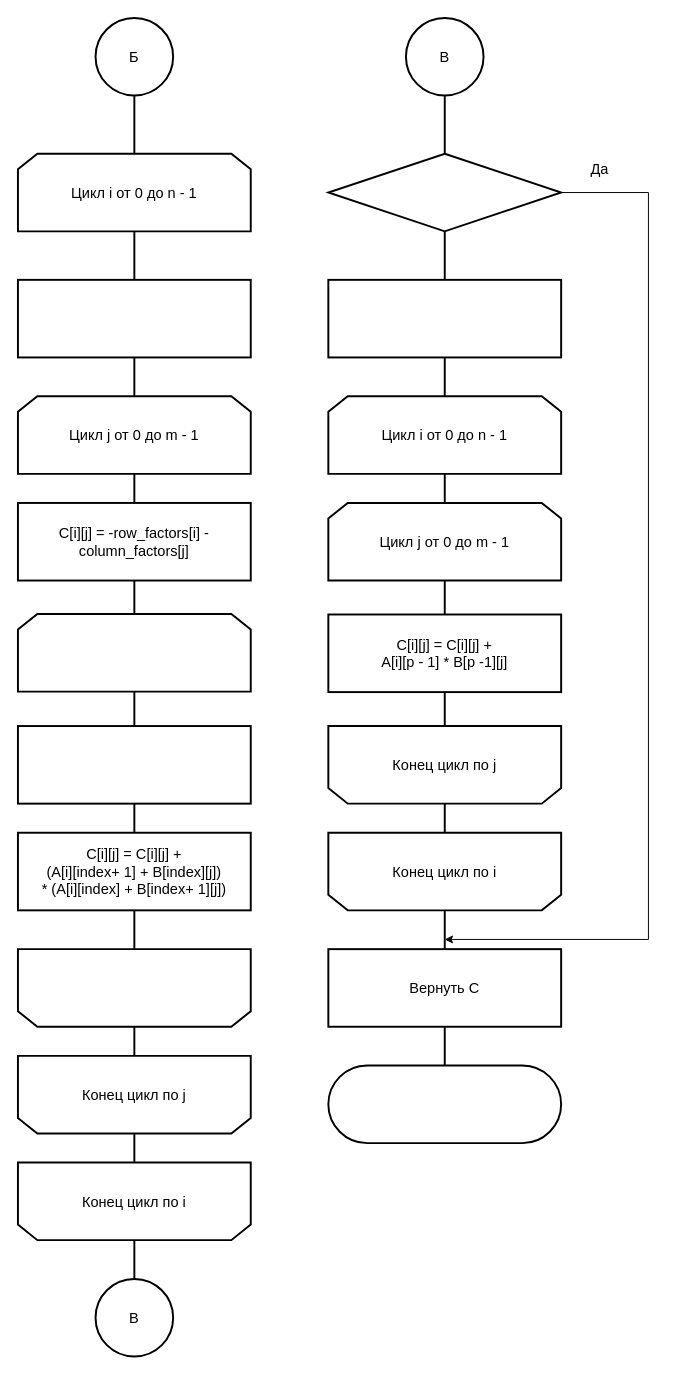
Image size: 673x1374. Some labels were removed from this diagram. The centre of each missing label's shape, as x and y in pixels:
"index = k << 1" goes at [133,764].
"p % 2 == 0" goes at [444,192].
"row_factors_temp = - row_factors[i]" goes at [133,318].
"temp_Ai = A[i][p - 1]" goes at [444,318].
"Конец" goes at [444,1104].
"Конец цикл по p" goes at [133,987].
"Цикл k от 0 до p//2 - 1" goes at [133,652].
